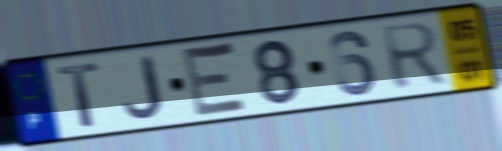6: (328, 28, 379, 97)
8: (252, 37, 304, 107)
E: (180, 39, 252, 121)
J: (122, 54, 166, 121)
R: (377, 20, 450, 93)
T: (54, 60, 104, 130)
